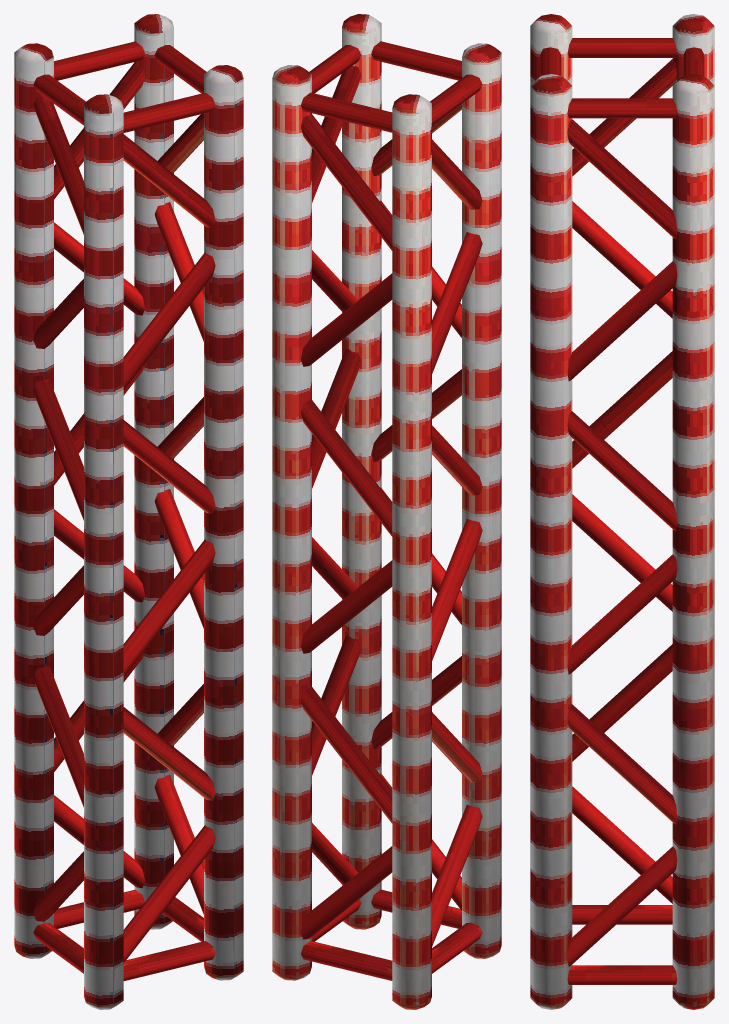
File: item_truss_xmas.glb
3 renders of one model, left to right at view 1: azimuth 30°, elevation 25°; view 2: azimuth 150°, elevation 25°; view 3: azimuth 270°, elevation 25°, orthographic. The views are drawn at different scales.
Visible parts, largest first — view 1: Truss; view 2: Truss; view 3: Truss.
Boxes of the visible parts, x1,y1,x2,y2 form: Truss: [14, 14, 243, 1009]; Truss: [272, 14, 501, 1009]; Truss: [530, 14, 714, 1009].
Size of the model in its own units: 0.6456 by 3.58 by 0.6473.
1 material, 1 textured.
